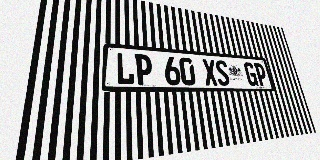0: (179, 57, 196, 85)
6: (164, 56, 181, 85)
G: (243, 62, 259, 86)
L: (116, 52, 135, 85)
P: (135, 54, 153, 85), (253, 63, 269, 86)
S: (214, 60, 231, 86)
X: (202, 59, 218, 86)
